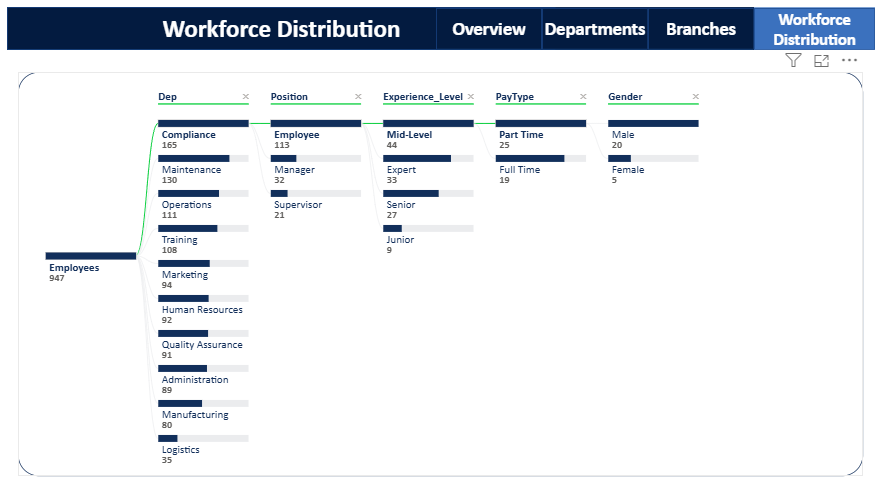

Layout of this report page (visuals, bound fields, positions):
{"tool":"powerbi","page":{"name":"workforce distribution","canvas":[1280,720],"ordinal":4},"visuals":[{"type":"shape","box":[14.4,15.8,790.4,61.6],"z":0,"group":"g1"},{"type":"shape","box":[1090.1,17.2,174.2,60.5],"z":0,"group":"g2"},{"type":"decompositionTreeVisual","fields":{"ExplainBy":["Employee Database.Dep","Employee Database.Position","Employee Database.ExperienceLevel_Clean","Employee Database.PayType","Employee Database.Gender"],"Analyze":["Employee Database.Count of employees"]},"box":[30.2,109.4,1216.8,581.8],"z":0},{"type":"group","id":"g1","title":"Group 1","box":[14.4,15.8,1075.7,61.9],"z":1000,"group":"g2"},{"type":"shape","box":[631.9,17.5,152.5,59.8],"z":1000,"group":"g1"},{"type":"group","id":"g2","title":"Group 2","box":[14.4,15.8,1249.9,61.9],"z":1001},{"type":"shape","box":[784.3,17.5,152.4,59.8],"z":2000,"group":"g1"},{"type":"shape","box":[936.8,17.5,152.4,59.8],"z":3000,"group":"g1"}]}

Visuals, with their boxes on the page's 1280x720 design canvas (x1, y1, x2, y2). These are canvas units, not pixel positions in the 881x487 screenshot, which may show the page scaled, cropped or inside an application window:
shape: BBox(14, 16, 805, 77)
shape: BBox(1090, 17, 1264, 78)
decompositionTreeVisual - Employee Database.Dep x Employee Database.Position: BBox(30, 109, 1247, 691)
"Group 1" group: BBox(14, 16, 1090, 78)
shape: BBox(632, 18, 784, 77)
"Group 2" group: BBox(14, 16, 1264, 78)
shape: BBox(784, 18, 937, 77)
shape: BBox(937, 18, 1089, 77)
